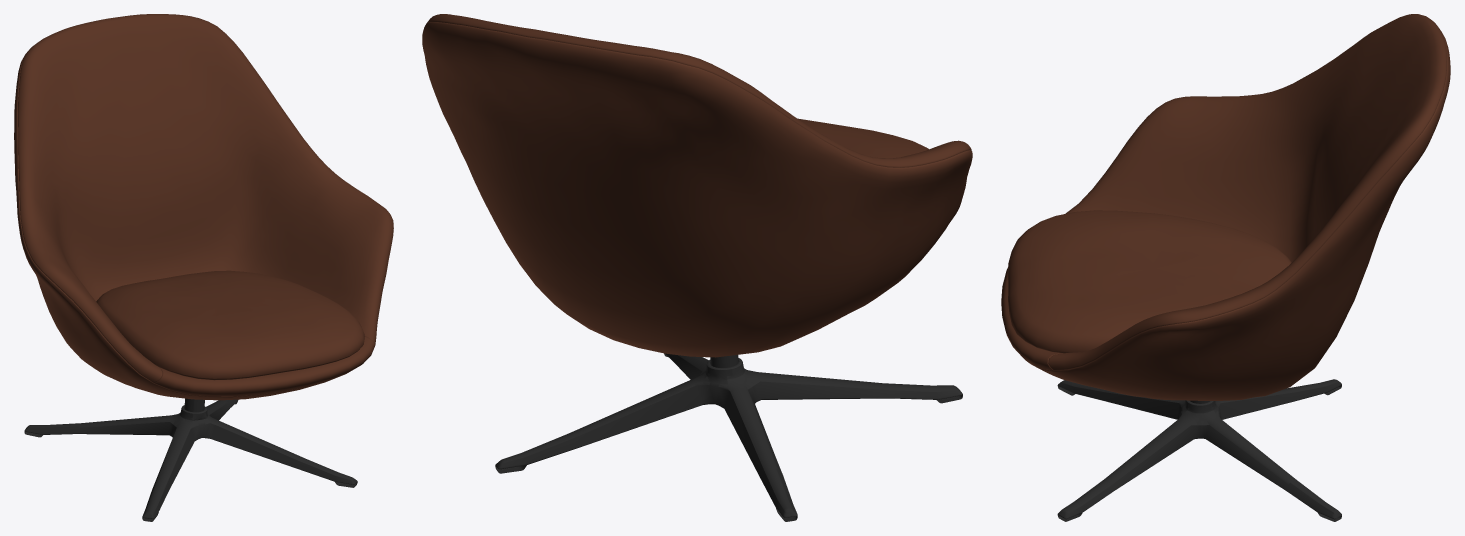
File: adelaide_armchair.glb
The picture shows the model from 3 angles, left to right: view 1: azimuth 30°, elevation 25°; view 2: azimuth 150°, elevation 25°; view 3: azimuth 270°, elevation 25°; orthographic projection. The views are drawn at different scales.
Parts seen in each view (by area): view 1: Object_2, Object_3; view 2: Object_2, Object_3; view 3: Object_2, Object_3.
Boxes of the visible parts, x1,y1,x2,y2 form: Object_2: (14, 14, 393, 400); Object_3: (24, 398, 357, 521); Object_2: (422, 14, 972, 357); Object_3: (495, 353, 962, 521); Object_2: (1001, 14, 1450, 400); Object_3: (1057, 379, 1341, 521).
Size of the model in its own units: 22.01 by 22.09 by 21.48.
Materials: 2 (1 with a texture image).
